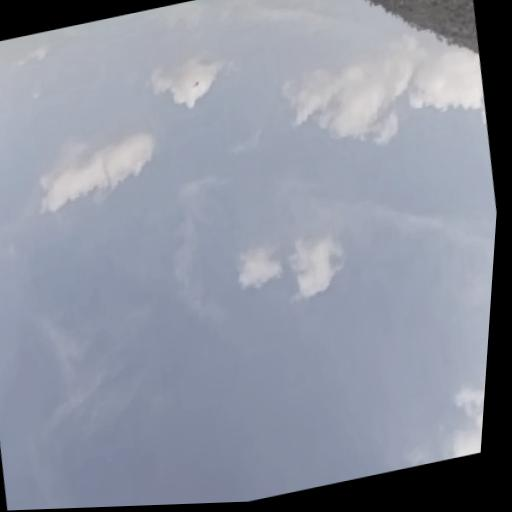drones: (189, 75, 205, 95)
